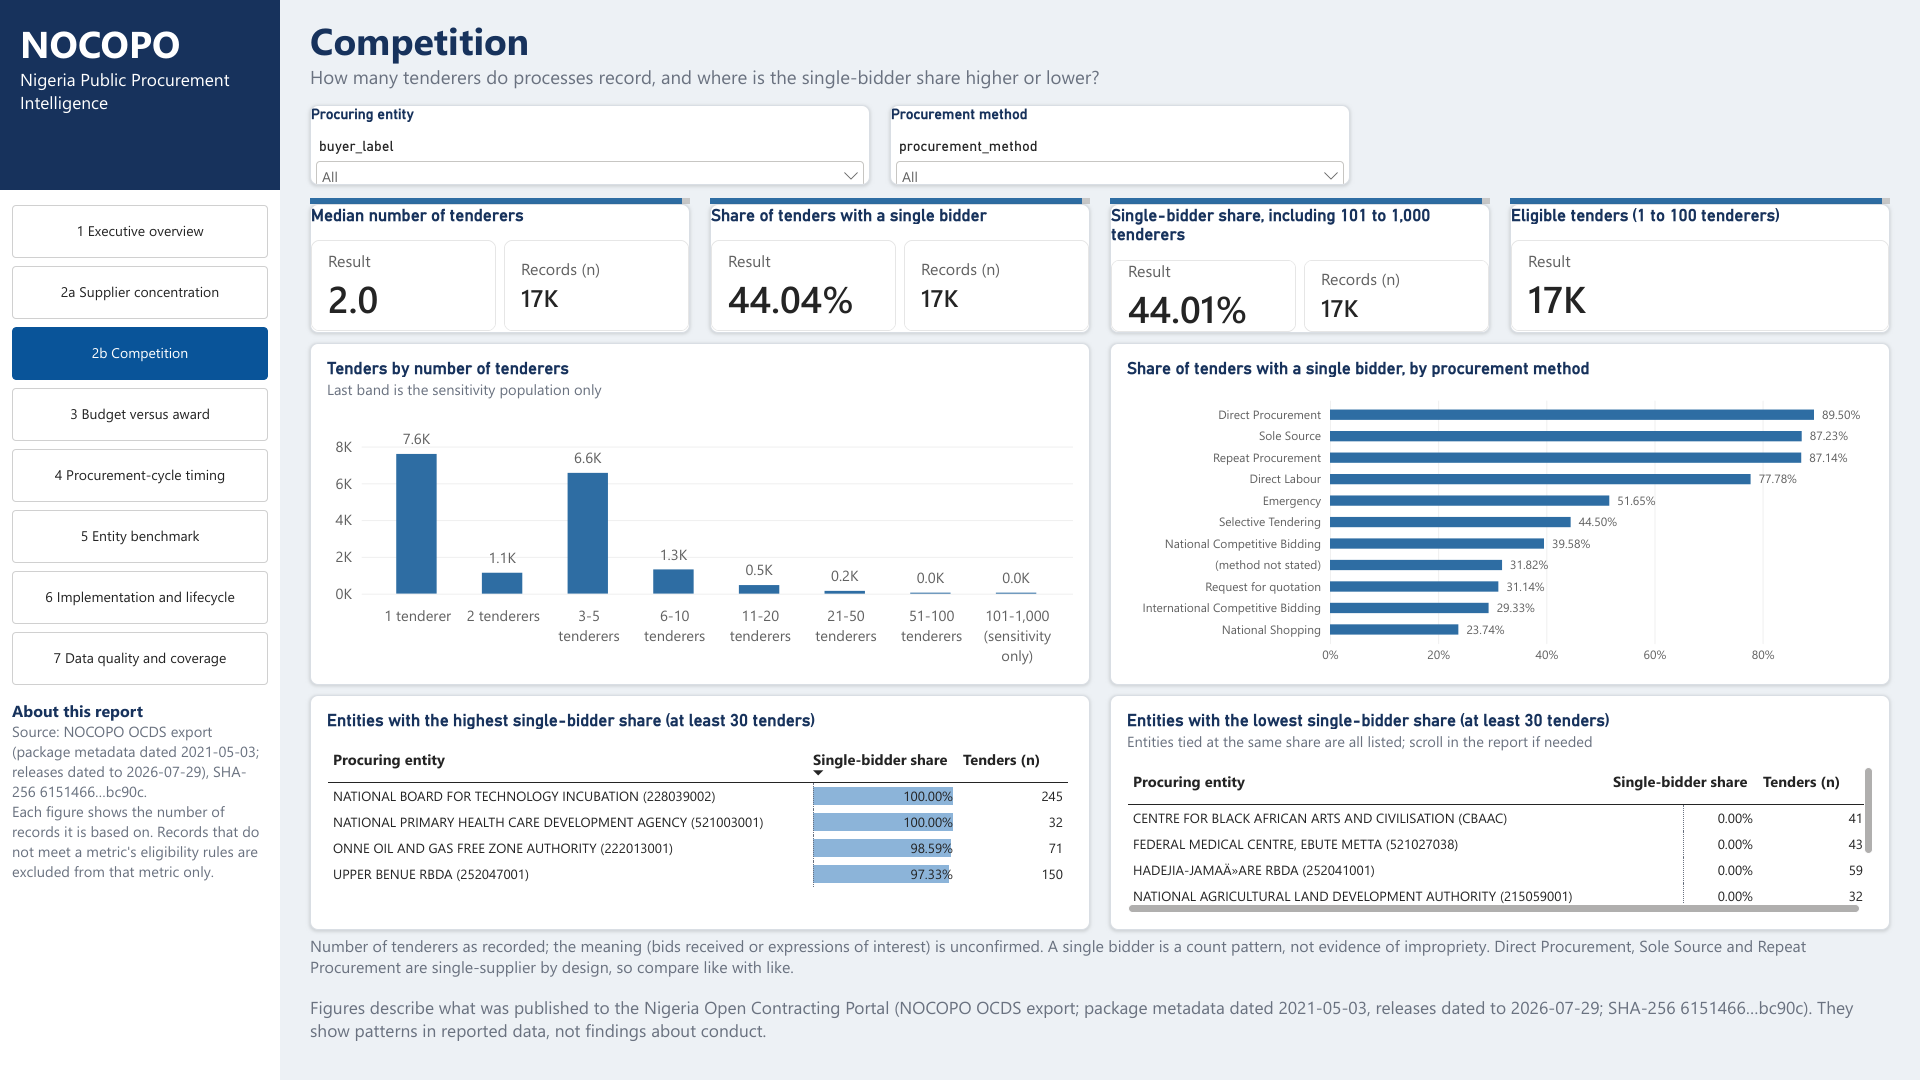

Layout of this report page (visuals, bound fields, positions):
{"tool":"powerbi","page":{"name":"2b Competition","canvas":[1920,1080],"ordinal":2},"visuals":[{"type":"textbox","box":[0,0,280,190],"z":0},{"type":"textbox","box":[0,190,280,890],"z":1},{"type":"textbox","box":[20,18,250,150],"z":2},{"type":"pageNavigator","box":[12,205,256,480],"z":3},{"type":"textbox","box":[12,700,256,360],"z":4},{"type":"textbox","box":[310,15,1580,80],"z":5},{"type":"textbox","box":[310,995,1580,70],"z":6},{"type":"slicer","title":"Procuring entity","fields":{"Values":["DimBuyer.buyer_label"]},"box":[310,105,560,80],"z":7},{"type":"slicer","title":"Procurement method","fields":{"Values":["DimMethod.procurement_method"]},"box":[890,105,460,80],"z":8},{"type":"textbox","box":[310,198,380,6],"z":9},{"type":"cardVisual","title":"Median number of tenderers","fields":{"Data":["_Measures.Median Tenderers (primary)","_Measures.Competition n (primary)"]},"box":[310,204,380,129],"z":10},{"type":"textbox","box":[710,198,380,6],"z":11},{"type":"cardVisual","title":"Share of tenders with a single bidder","fields":{"Data":["_Measures.Single-Bidder Rate (primary)","_Measures.Competition n (primary)"]},"box":[710,204,380,129],"z":12},{"type":"textbox","box":[1110,198,380,6],"z":13},{"type":"cardVisual","title":"Single-bidder share, including 101 to 1,000 tenderers","fields":{"Data":["_Measures.Single-Bidder Rate (sensitivity)","_Measures.Competition n (sensitivity)"]},"box":[1110,204,380,129],"z":14},{"type":"textbox","box":[1510,198,380,6],"z":15},{"type":"cardVisual","title":"Eligible tenders (1 to 100 tenderers)","fields":{"Data":["_Measures.Competition n (primary)"]},"box":[1510,204,380,129],"z":16},{"type":"clusteredColumnChart","title":"Tenders by number of tenderers","fields":{"Category":["Competition.Participation Band"],"Y":["_Measures.Tenders (n)"]},"box":[310,343,780,342],"z":17},{"type":"clusteredBarChart","title":"Share of tenders with a single bidder, by procurement method","fields":{"Category":["DimMethod.procurement_method"],"Y":["_Measures.Single-Bidder Rate (primary)"]},"box":[1110,343,780,342],"z":18},{"type":"tableEx","title":"Entities with the highest single-bidder share (at least 30 tenders)","fields":{"Values":["DimBuyer.buyer_label","_Measures.Entity Single-Bidder Rate (min n)","_Measures.Entity Competition n"]},"box":[310,695,780,235],"z":19},{"type":"tableEx","title":"Entities with the lowest single-bidder share (at least 30 tenders)","fields":{"Values":["DimBuyer.buyer_label","_Measures.Entity Single-Bidder Rate (min n)","_Measures.Entity Competition n"]},"box":[1110,695,780,235],"z":20},{"type":"textbox","box":[310,935,1580,56],"z":21}]}

Visuals, with their boxes in screenshot pixels (x1, y1, x2, y2), scaled from the page's 1920x1080 canvas onto the 1920x1080 screenshot:
textbox: x1=0, y1=0, x2=280, y2=190
textbox: x1=0, y1=190, x2=280, y2=1079
textbox: x1=20, y1=18, x2=270, y2=168
pageNavigator: x1=12, y1=205, x2=268, y2=685
textbox: x1=12, y1=700, x2=268, y2=1060
textbox: x1=310, y1=15, x2=1890, y2=95
textbox: x1=310, y1=995, x2=1890, y2=1065
"Procuring entity" slicer: x1=310, y1=105, x2=870, y2=185
"Procurement method" slicer: x1=890, y1=105, x2=1350, y2=185
textbox: x1=310, y1=198, x2=690, y2=204
"Median number of tenderers" cardVisual: x1=310, y1=204, x2=690, y2=333
textbox: x1=710, y1=198, x2=1090, y2=204
"Share of tenders with a single bidder" cardVisual: x1=710, y1=204, x2=1090, y2=333
textbox: x1=1110, y1=198, x2=1490, y2=204
"Single-bidder share, including 101 to 1,000 tenderers" cardVisual: x1=1110, y1=204, x2=1490, y2=333
textbox: x1=1510, y1=198, x2=1890, y2=204
"Eligible tenders (1 to 100 tenderers)" cardVisual: x1=1510, y1=204, x2=1890, y2=333
"Tenders by number of tenderers" clusteredColumnChart: x1=310, y1=343, x2=1090, y2=685
"Share of tenders with a single bidder, by procurement method" clusteredBarChart: x1=1110, y1=343, x2=1890, y2=685
"Entities with the highest single-bidder share (at least 30 tenders)" tableEx: x1=310, y1=695, x2=1090, y2=930
"Entities with the lowest single-bidder share (at least 30 tenders)" tableEx: x1=1110, y1=695, x2=1890, y2=930
textbox: x1=310, y1=935, x2=1890, y2=991
